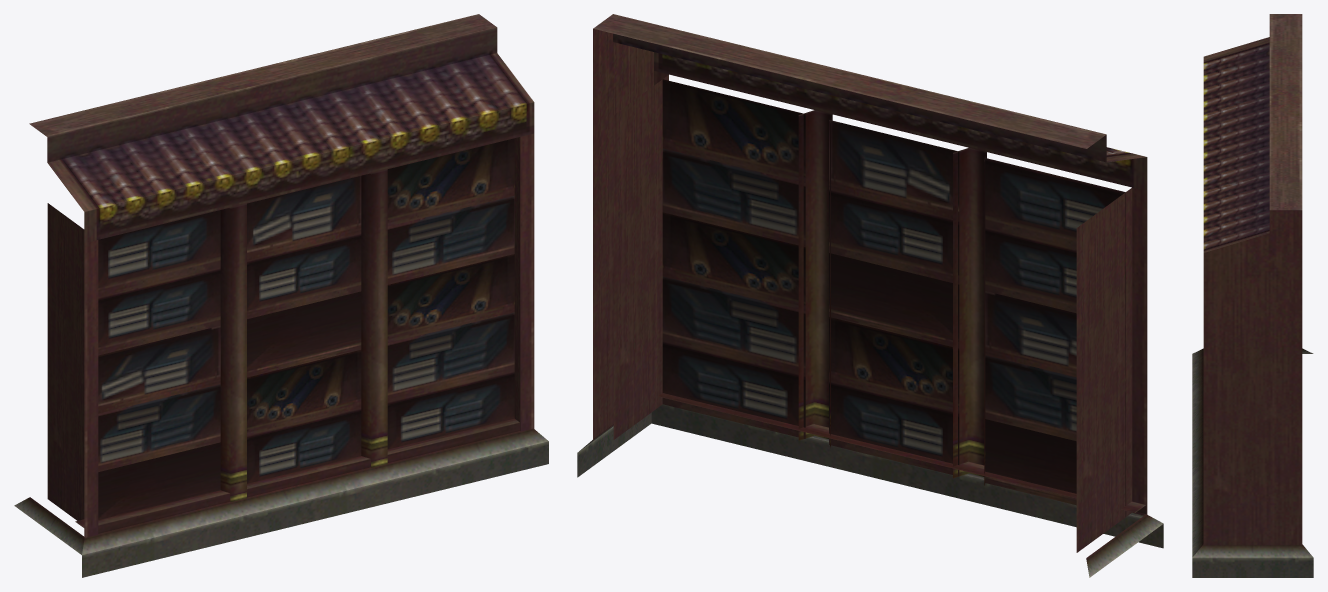
File: fb_cangjingge_shujia01.FBX
3 renders of one model, left to right at view 1: azimuth 30°, elevation 25°; view 2: azimuth 150°, elevation 25°; view 3: azimuth 270°, elevation 25°, orthographic. The views are drawn at different scales.
Visible parts, largest first — view 1: fb_cangjingge_shujia01; view 2: fb_cangjingge_shujia01; view 3: fb_cangjingge_shujia01.
Boxes of the visible parts, left/top/right/bottom form: fb_cangjingge_shujia01: left=14, top=14, right=548, bottom=577; fb_cangjingge_shujia01: left=577, top=14, right=1163, bottom=577; fb_cangjingge_shujia01: left=1192, top=14, right=1313, bottom=577.
Bounding box in the file's own units: 563 × 469 × 141.
